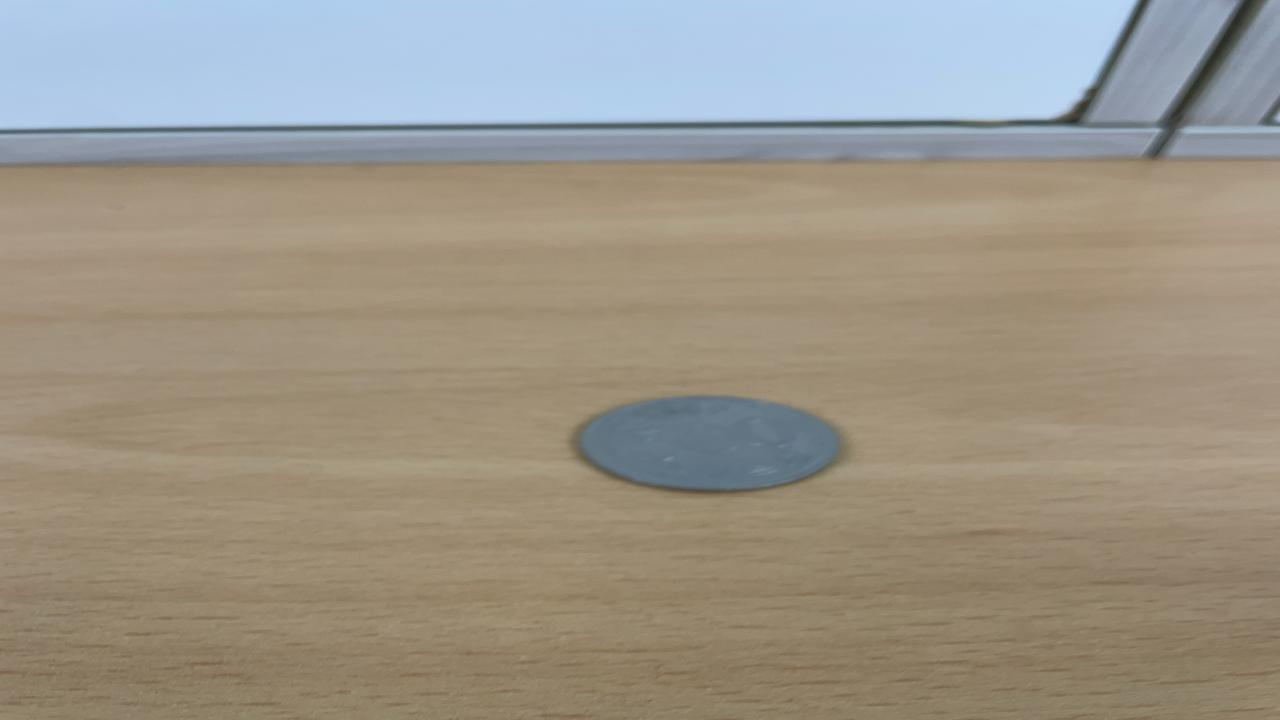coin: (572, 393, 850, 493)
